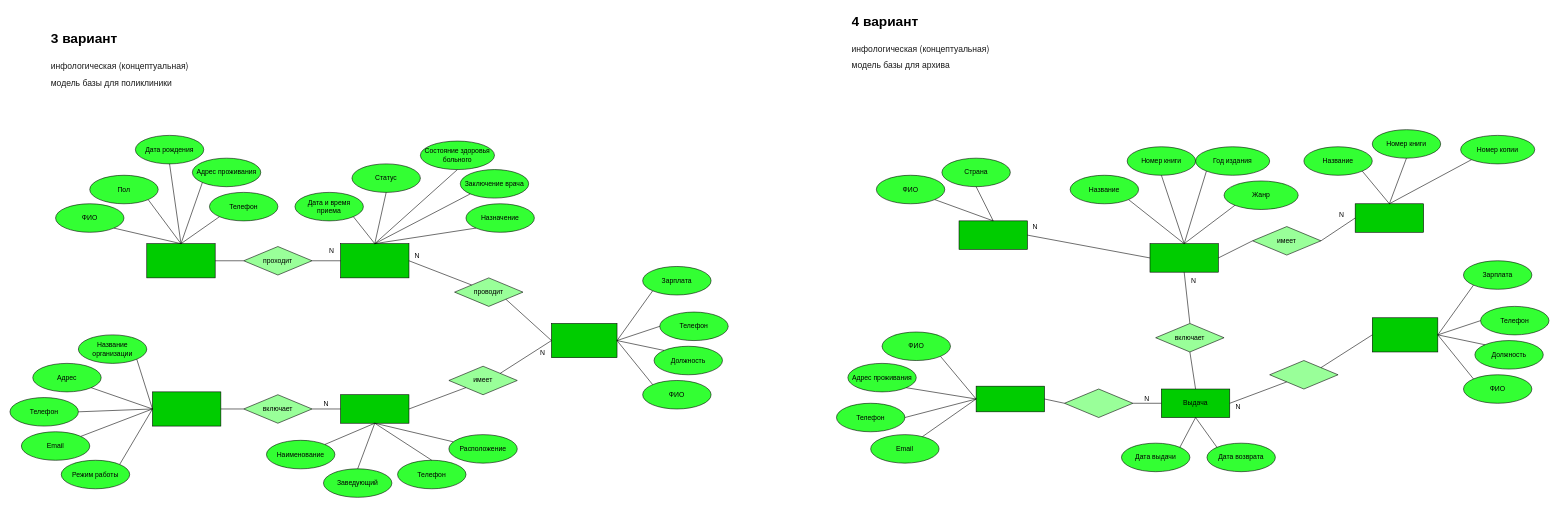
Image size: 1559x507. Some labels were removed from this diagram. The shapes that lost their labels are listed below. From the top down, each one's box as (x1, y1, x2, y2) in pixels, then its label:
(958, 220, 1027, 249): Автор
(1355, 203, 1424, 232): Копия книги
(146, 243, 215, 278): Больной
(340, 243, 409, 278): Прием
(1149, 243, 1218, 272): Книга
(551, 323, 617, 358): Врач
(1372, 317, 1438, 352): Сотрудник
(1269, 360, 1338, 389): делает
(152, 391, 221, 426): Поликлиника
(340, 394, 409, 423): Отделение
(976, 386, 1045, 412): Читатель
(1064, 388, 1133, 418): получает
